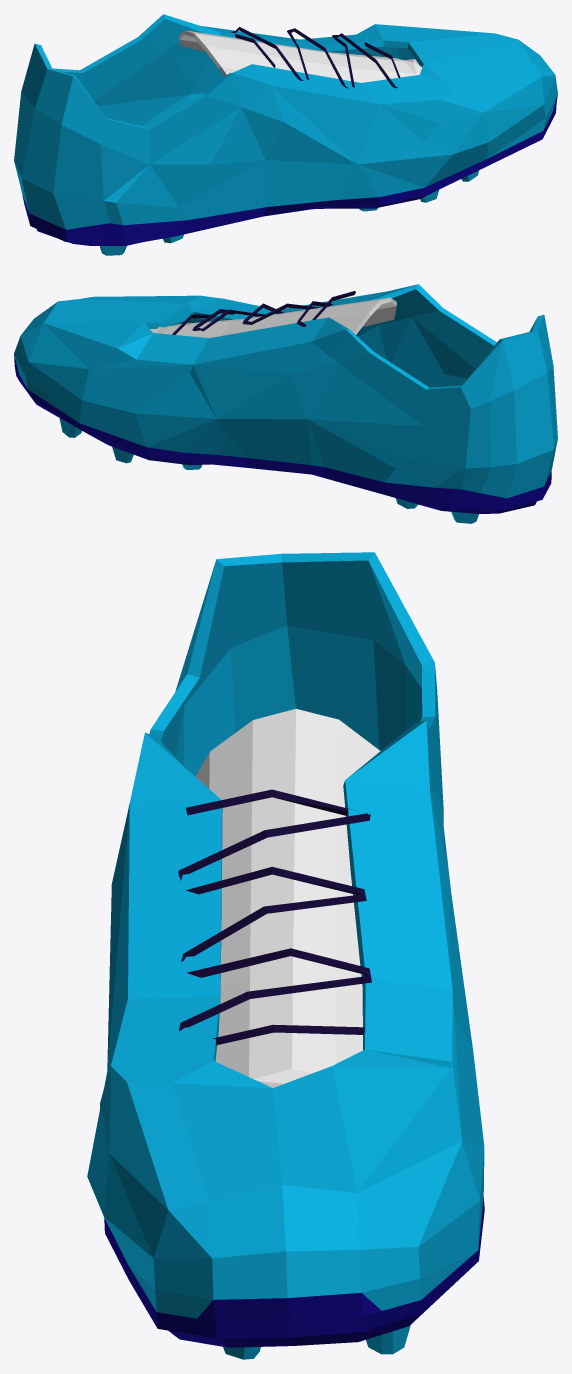
File: blue.glb
3 views of the same model, one above another, from view 1: azimuth 30°, elevation 25°; view 2: azimuth 150°, elevation 25°; view 3: azimuth 270°, elevation 25° (orthographic). The views are drawn at different scales.
Visible parts, largest first — view 1: Blue; view 2: Blue; view 3: Blue.
Boxes of the visible parts, x1,y1,x2,y2 form: Blue: [14, 14, 557, 255]; Blue: [14, 284, 557, 523]; Blue: [87, 552, 484, 1359].
Bounding box in the file's own units: 1.73 × 0.6407 × 0.5701.
